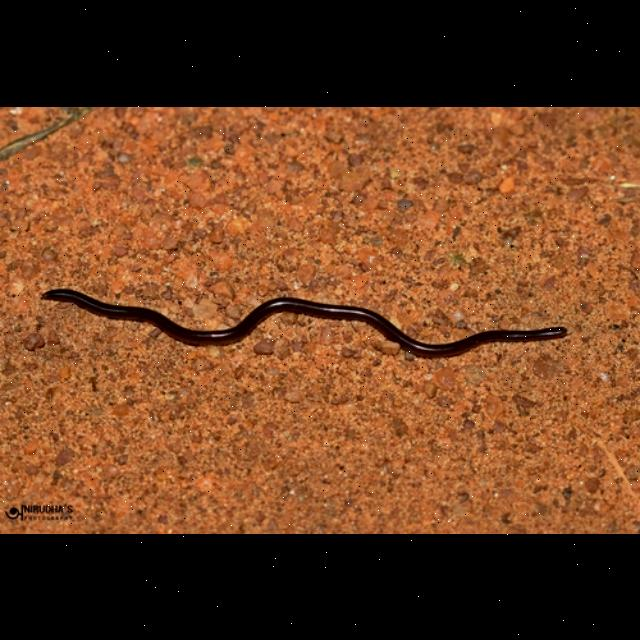snake: (38, 277, 572, 363)
